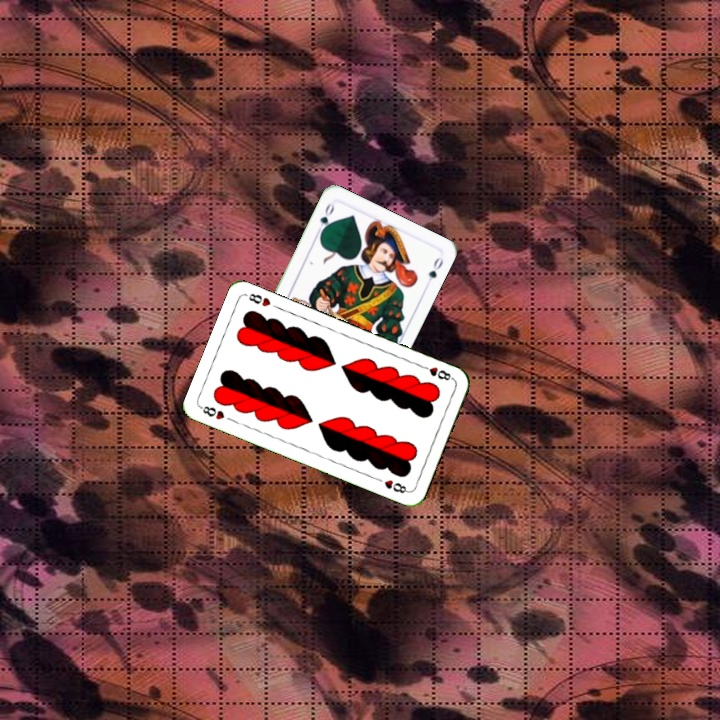GO: (312, 199, 337, 238)
H8: (417, 361, 456, 383), (197, 402, 227, 422)
